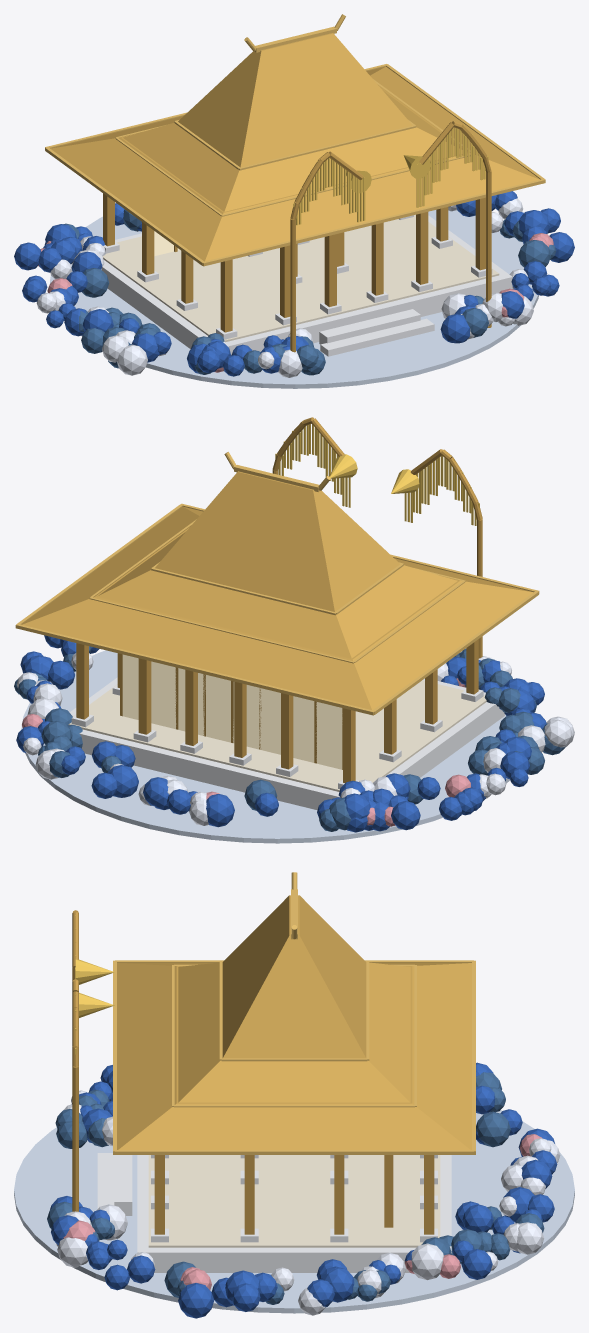
File: joglo.glb
3 views of the same model, one above another, from view 1: azimuth 30°, elevation 25°; view 2: azimuth 150°, elevation 25°; view 3: azimuth 270°, elevation 25° (orthographic). The views are drawn at different scales.
Visible parts, largest first — view 1: roof, woodlight, flowerB, ground, stone, wood, gold, flowerW, leaf, janur, bamboo, flowerP; view 2: roof, flowerB, ground, woodlight, gebyok, stone, wood, gold, leaf, flowerW, janur, bamboo (+1 smaller); view 3: roof, woodlight, ground, flowerB, stone, gold, flowerW, leaf, wood, bamboo, flowerP, janur.
Part boxes in pixels (left/top/right/bottom): roof: left=50, top=33, right=539, bottom=261; woodlight: left=102, top=214, right=499, bottom=342; flowerB: left=14, top=191, right=574, bottom=376; ground: left=50, top=210, right=538, bottom=388; stone: left=102, top=215, right=512, bottom=356; wood: left=103, top=193, right=485, bottom=332; gold: left=45, top=14, right=545, bottom=266; flowerW: left=36, top=198, right=533, bottom=377; leaf: left=63, top=209, right=556, bottom=375; janur: left=293, top=125, right=488, bottom=225; bamboo: left=290, top=121, right=491, bottom=352; flowerP: left=38, top=233, right=553, bottom=372; roof: left=22, top=471, right=533, bottom=710; flowerB: left=16, top=635, right=546, bottom=832; ground: left=21, top=650, right=509, bottom=843; woodlight: left=68, top=680, right=486, bottom=791; gebyok: left=122, top=654, right=342, bottom=769; stone: left=69, top=677, right=504, bottom=810; wood: left=76, top=639, right=478, bottom=782; gold: left=15, top=452, right=539, bottom=715; leaf: left=14, top=646, right=565, bottom=831; flowerW: left=16, top=653, right=574, bottom=825; janur: left=275, top=422, right=479, bottom=525; bamboo: left=272, top=417, right=482, bottom=658; roof: left=117, top=895, right=471, bottom=1149; woodlight: left=148, top=1155, right=440, bottom=1247; ground: left=14, top=1110, right=574, bottom=1313; flowerB: left=50, top=1062, right=557, bottom=1318; stone: left=97, top=1153, right=451, bottom=1272; gold: left=113, top=872, right=475, bottom=1154; flowerW: left=56, top=1090, right=560, bottom=1315; leaf: left=47, top=1072, right=544, bottom=1304; wood: left=154, top=1155, right=434, bottom=1234; bamboo: left=72, top=910, right=78, bottom=1211; flowerP: left=63, top=1134, right=542, bottom=1290; janur: left=75, top=915, right=114, bottom=1054.
Bounding box in the file's own units: 11.44 × 5.84 × 10.
